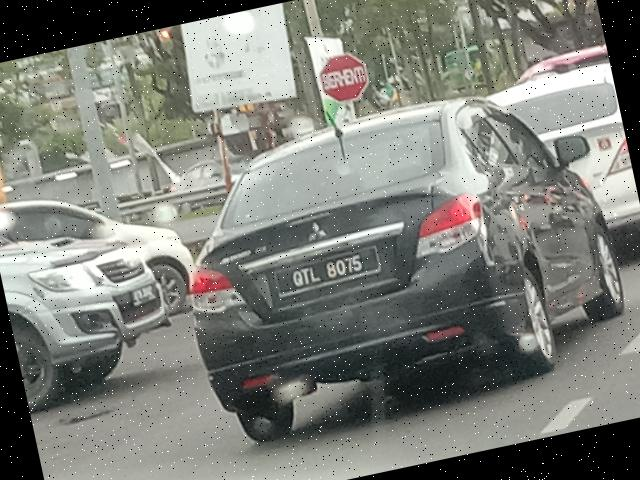License_Plate: (273, 247, 384, 301)
car: (157, 71, 640, 453), (1, 192, 184, 411), (474, 68, 640, 266)
